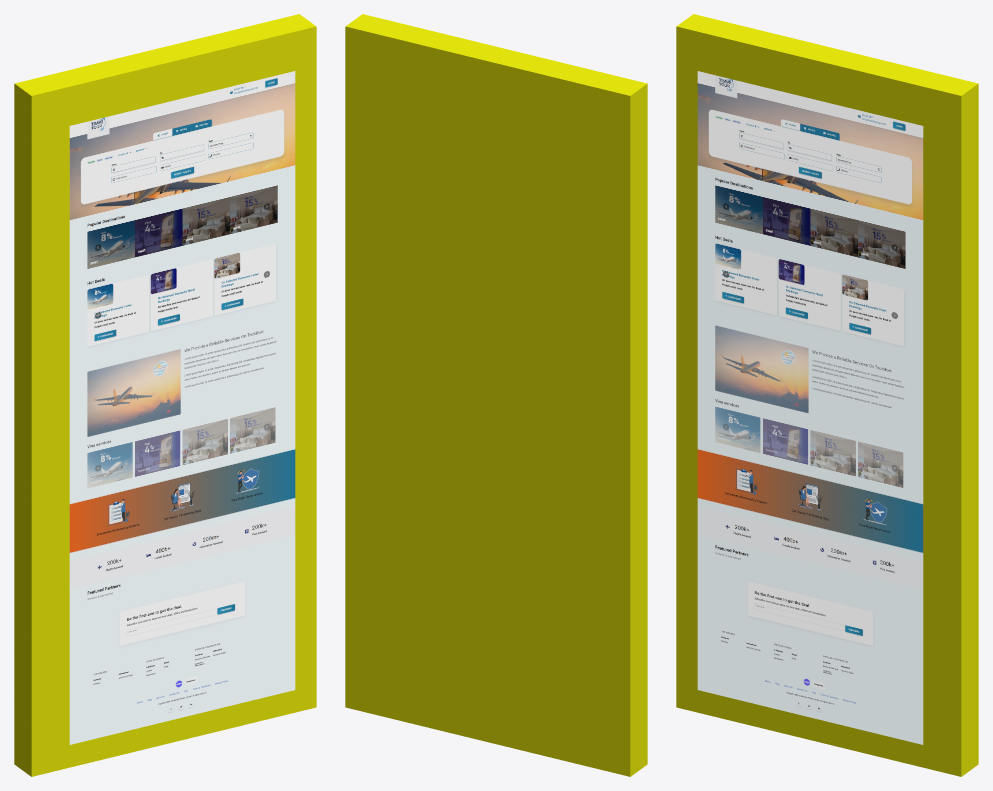
The picture shows the model from 3 angles, left to right: view 1: azimuth 30°, elevation 25°; view 2: azimuth 150°, elevation 25°; view 3: azimuth 330°, elevation 25°; orthographic projection.
Parts seen in each view (by area): view 1: PhotoPlane, PhotoBorder; view 2: PhotoBorder; view 3: PhotoPlane, PhotoBorder.
Boxes of the visible parts, box(x1,y1,x2,y2) form: PhotoPlane: box(69, 71, 295, 744); PhotoBorder: box(14, 14, 316, 776); PhotoBorder: box(345, 14, 647, 776); PhotoPlane: box(697, 71, 923, 744); PhotoBorder: box(676, 14, 978, 776).
Bounding box in the file's own units: 4.82 × 11 × 0.75.
Materials: 2 (1 with a texture image).
